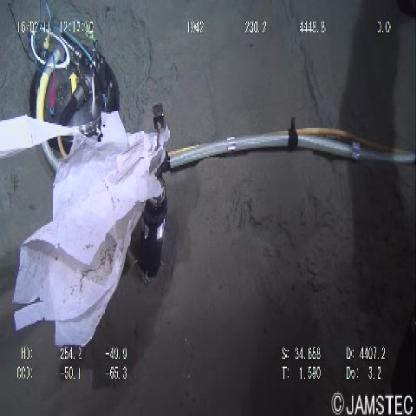Rov: (16, 9, 123, 124)
Rác: (1, 116, 172, 346)
